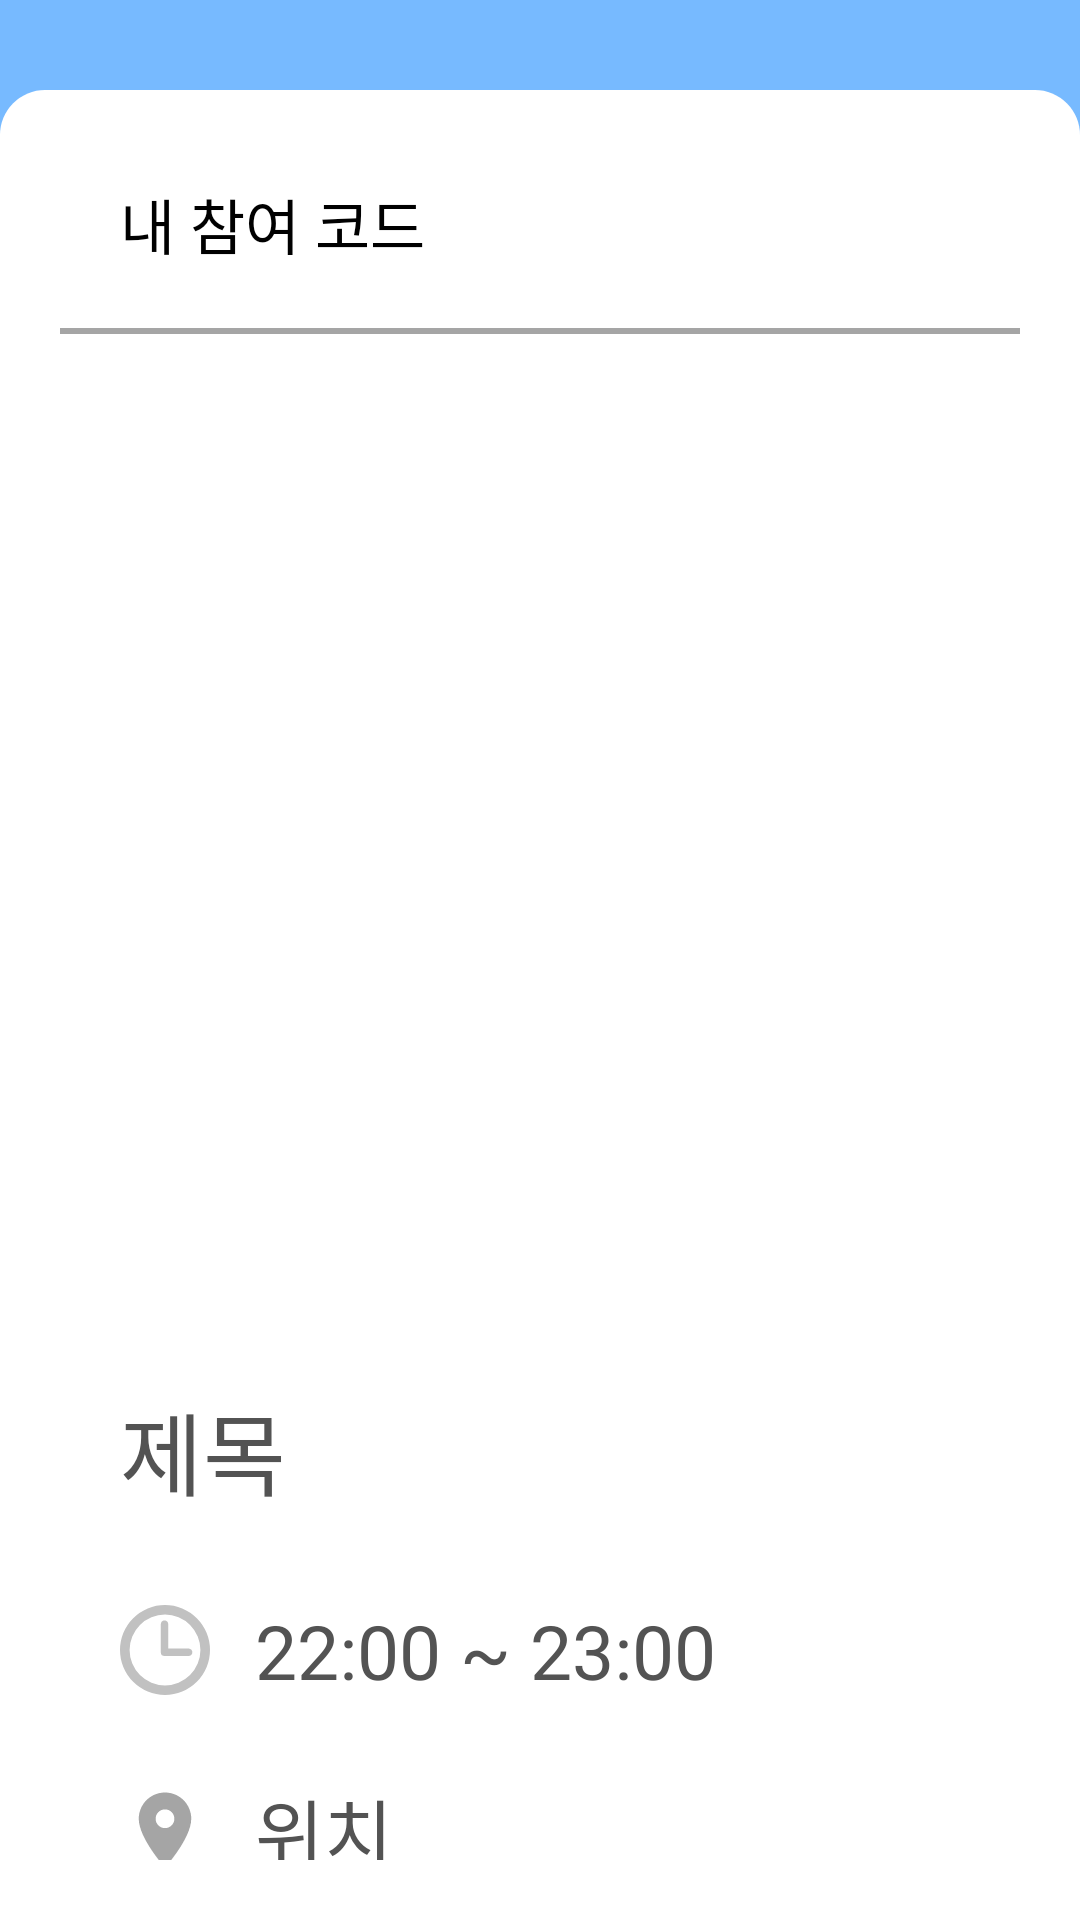

Icons on this 1080px x 1920px Android screen, each with its box as (x1, y1, x2, y2):
clock: (120, 1605, 210, 1695)
location on: (139, 1792, 191, 1860)
